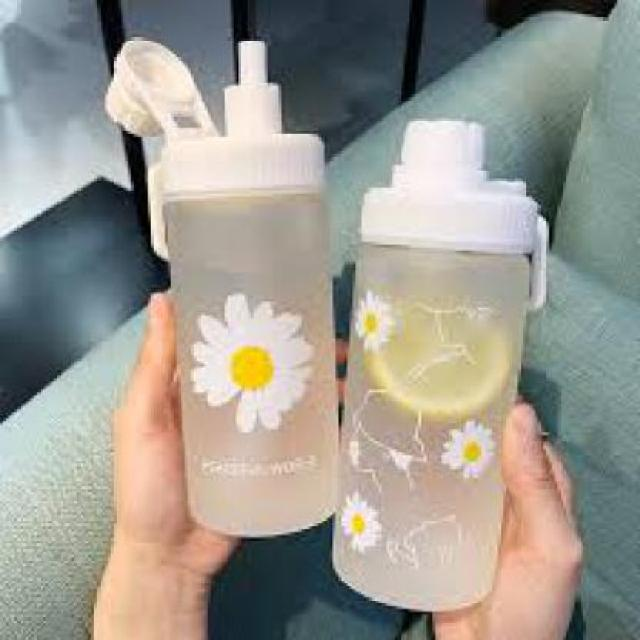Drinking: (318, 94, 558, 626), (150, 57, 350, 563)
